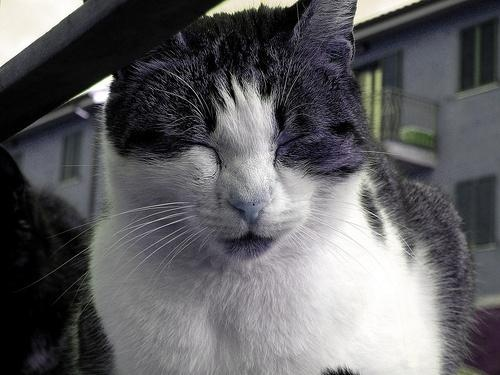cat: (79, 1, 476, 375)
